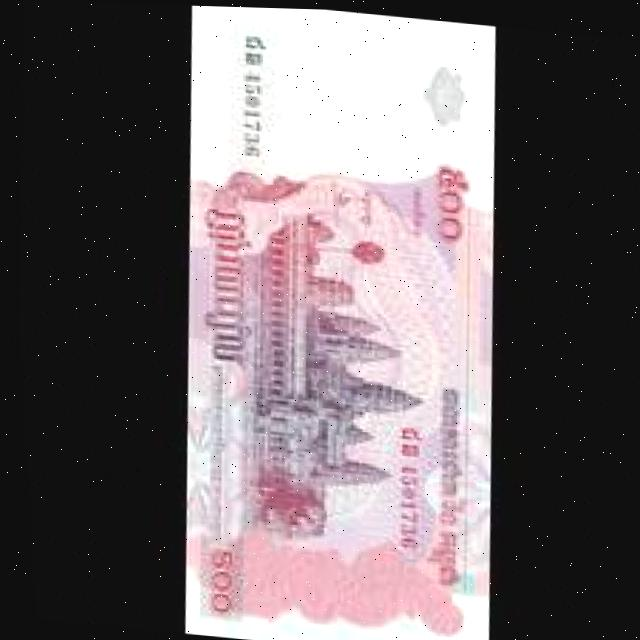banknote: (150, 3, 525, 640), (187, 536, 242, 620)
